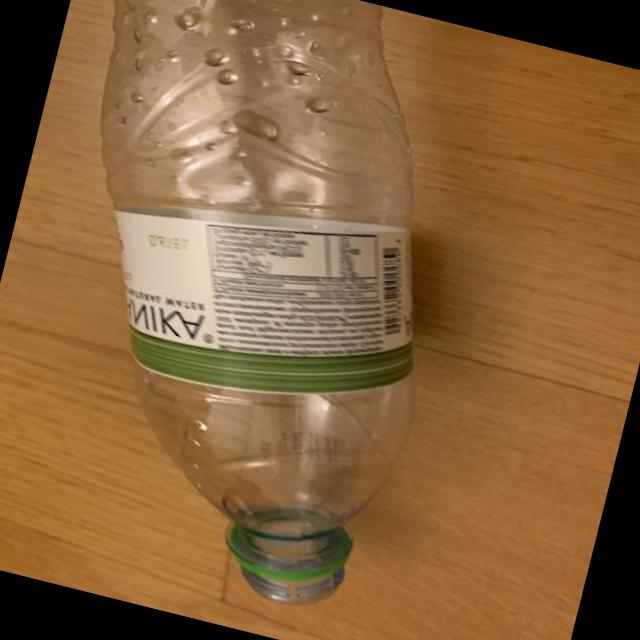plastic_bottle: (0, 0, 506, 625)
